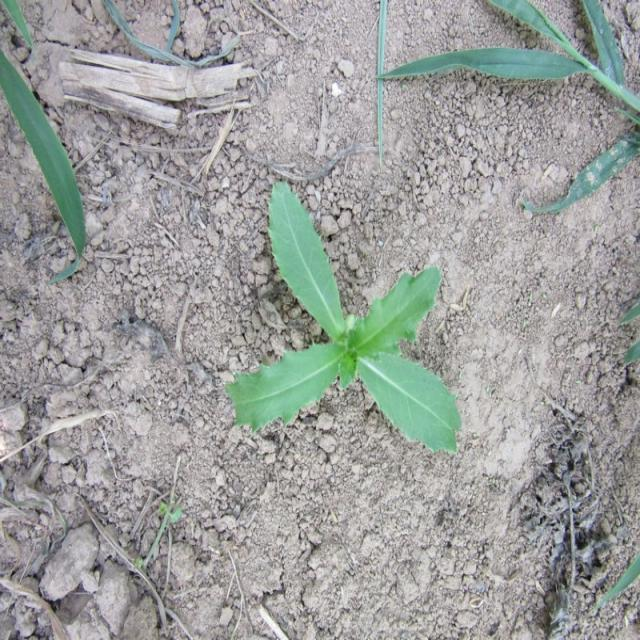cs: (224, 175, 466, 459)
